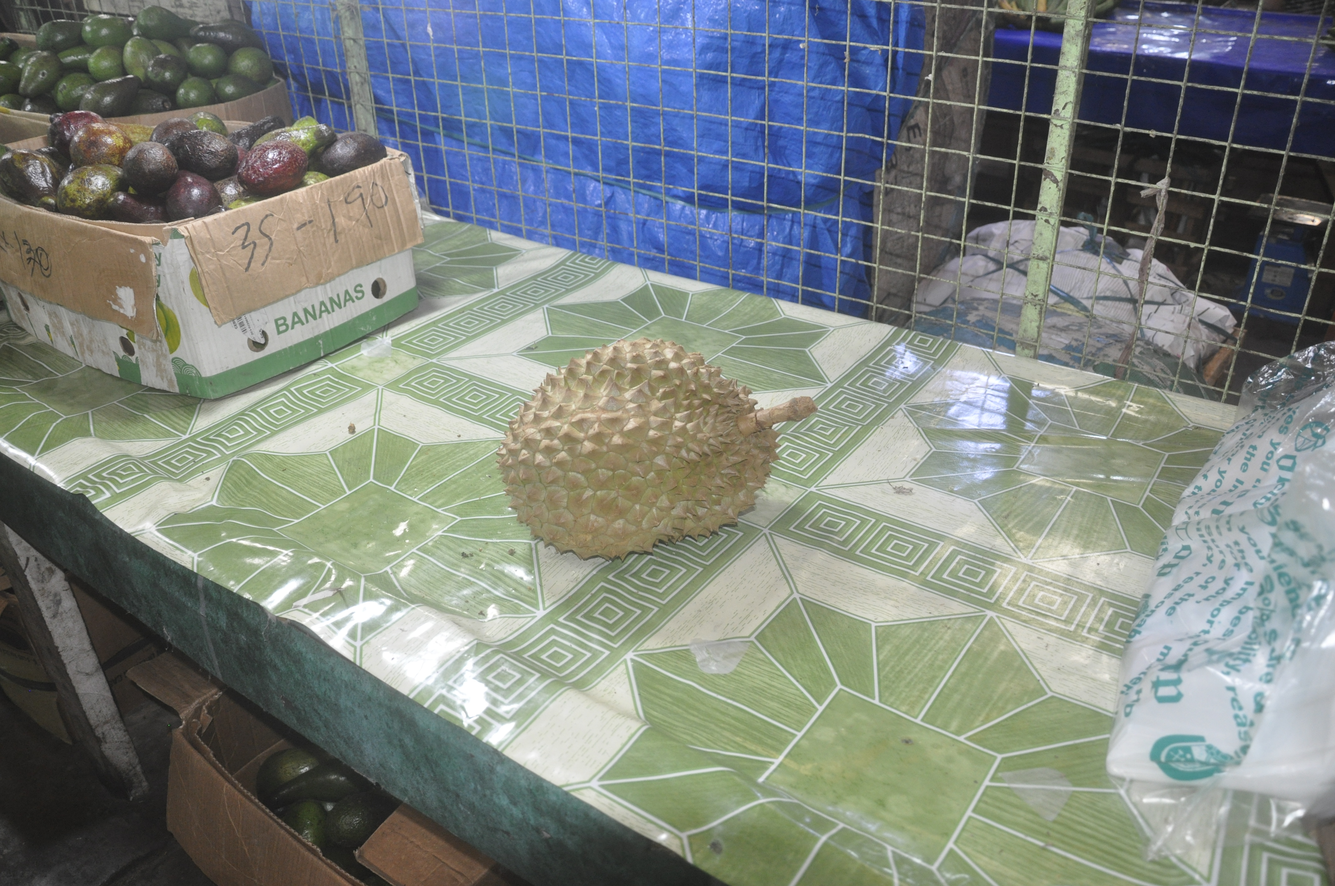mature: (497, 338, 816, 558)
